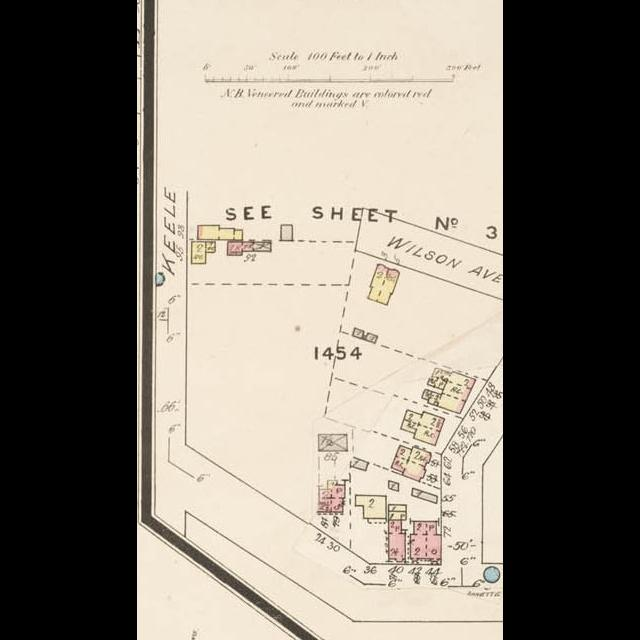building-footprints: (422, 367, 476, 413), (400, 409, 445, 445), (391, 445, 432, 481), (368, 264, 400, 305), (411, 521, 441, 561), (319, 480, 345, 511), (388, 520, 406, 561), (227, 239, 271, 255), (356, 495, 386, 518), (198, 225, 242, 239), (191, 241, 215, 263), (318, 434, 347, 450), (413, 487, 437, 503), (281, 224, 293, 240), (353, 459, 368, 470), (364, 332, 378, 343), (388, 511, 406, 519), (352, 328, 364, 339), (388, 504, 406, 511), (388, 480, 399, 491)
